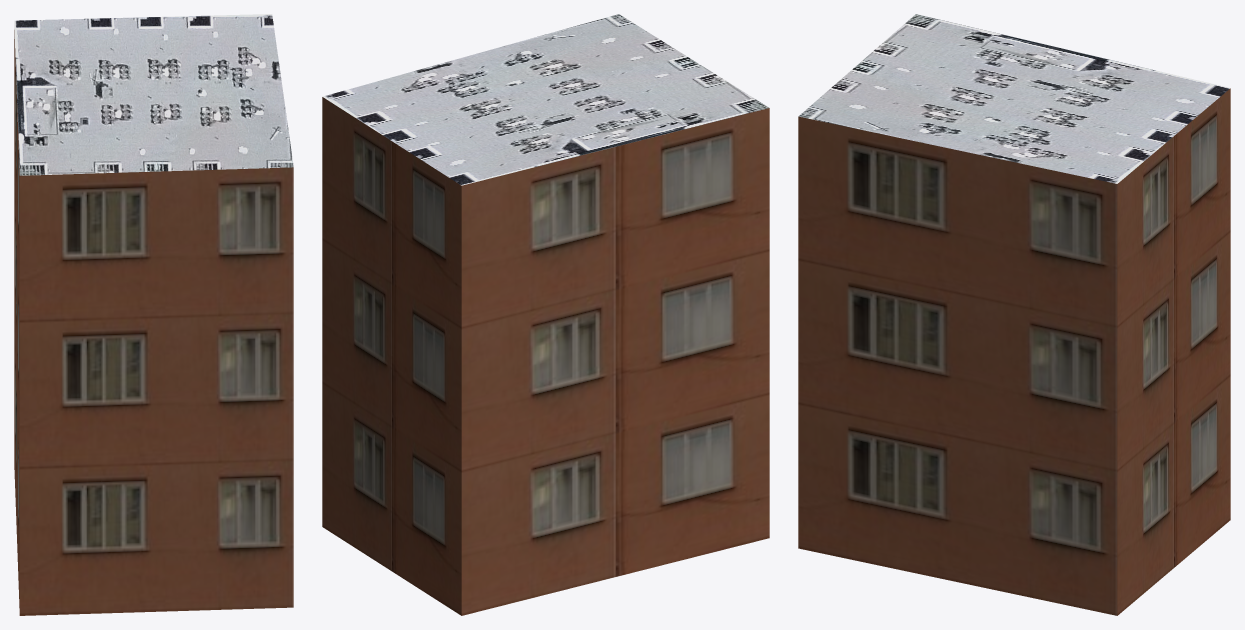
File: ResTex__4661.fbx
3 renders of one model, left to right at view 1: azimuth 30°, elevation 25°; view 2: azimuth 150°, elevation 25°; view 3: azimuth 270°, elevation 25°, orthographic. The views are drawn at different scales.
Visible parts, largest first — view 1: CityEngineMaterial_20_m, CityEngineMaterial_4_m; view 2: CityEngineMaterial_20_m, CityEngineMaterial_4_m; view 3: CityEngineMaterial_20_m, CityEngineMaterial_4_m.
Boxes of the visible parts, x1,y1,x2,y2 form: CityEngineMaterial_20_m: (14, 30, 293, 615); CityEngineMaterial_4_m: (14, 14, 293, 175); CityEngineMaterial_20_m: (322, 97, 769, 615); CityEngineMaterial_4_m: (322, 14, 769, 185); CityEngineMaterial_20_m: (798, 88, 1230, 615); CityEngineMaterial_4_m: (798, 14, 1230, 183).
Size of the model in its own units: 7.6 by 9 by 8.17.
Materials: 2 (2 with a texture image).
